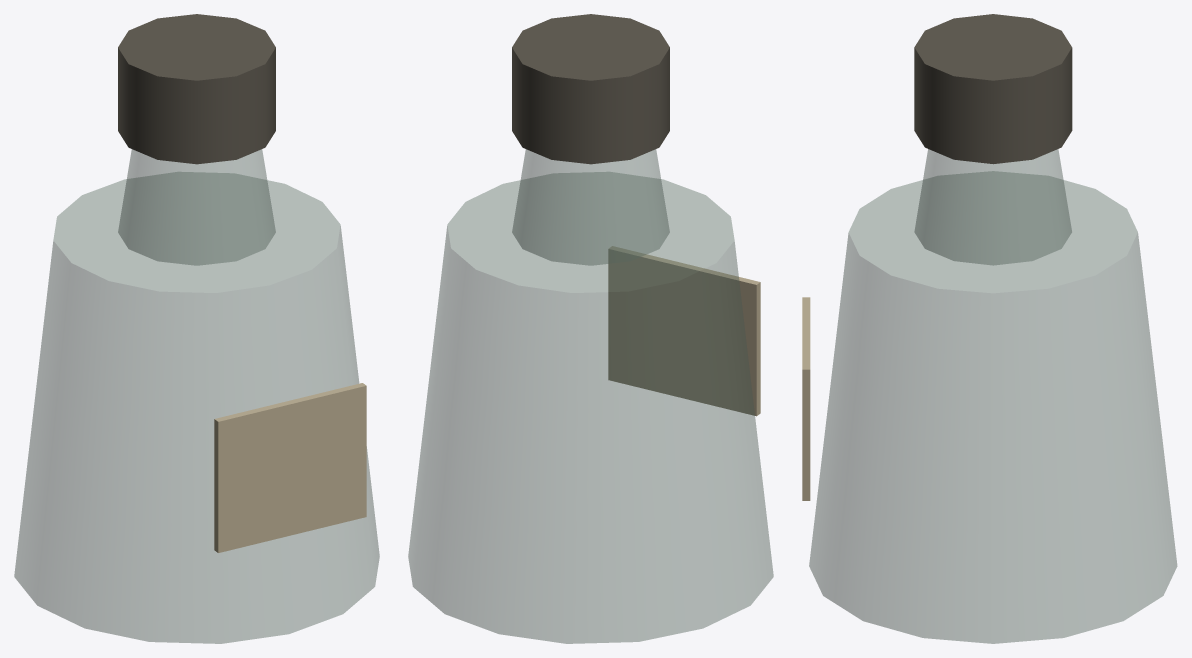
Rendered from perfume_bottle.glb.
3 views of the same model, side by side, from view 1: azimuth 30°, elevation 25°; view 2: azimuth 150°, elevation 25°; view 3: azimuth 270°, elevation 25° (orthographic).
Parts seen in each view (by area): view 1: glass__glass_bottle, metal__cap, paper__label, glass__neck; view 2: glass__glass_bottle, metal__cap, paper__label, glass__neck; view 3: glass__glass_bottle, metal__cap, glass__neck, paper__label.
Part boxes in pixels (<box>): glass__glass_bottle: <box>14,172,379,643</box>; metal__cap: <box>118,14,275,164</box>; paper__label: <box>214,383,366,552</box>; glass__neck: <box>118,149,275,265</box>; glass__glass_bottle: <box>408,172,773,643</box>; metal__cap: <box>512,14,669,164</box>; paper__label: <box>608,246,760,416</box>; glass__neck: <box>512,149,669,265</box>; glass__glass_bottle: <box>809,171,1177,643</box>; metal__cap: <box>914,14,1072,164</box>; glass__neck: <box>914,149,1071,265</box>; paper__label: <box>802,297,810,500</box>.
Bounding box in the file's own units: 0.14 × 0.2175 × 0.1425.
